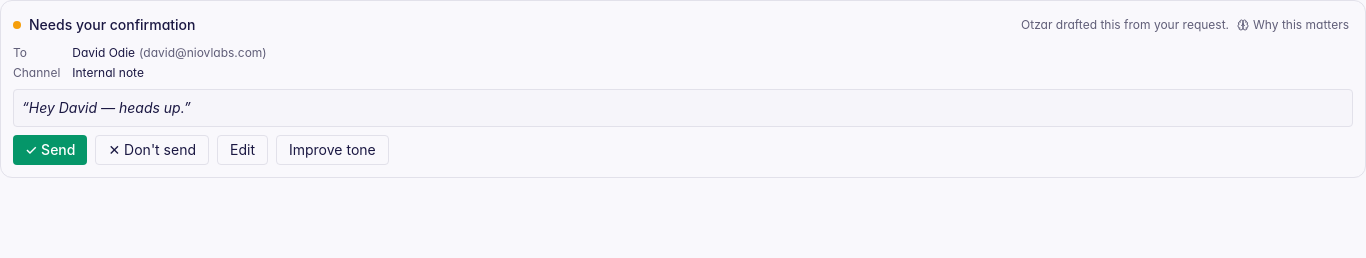
ProposedActionCard — edit flow › Edit reveals a textarea seeded with the draft text
This screenshot has width=1366, height=258.
Click the button with test id "ctx-edit-button".
click(242, 150)  # box [217,135,268,165]
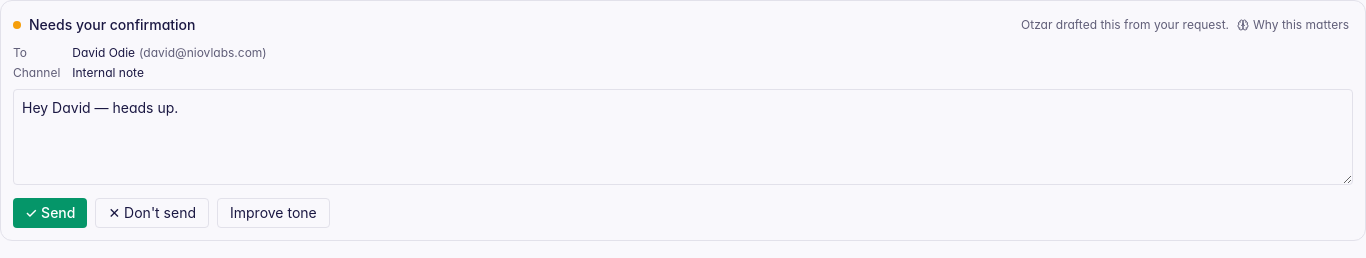
Check: the text box with test id "ctx-draft-edit" holds "Hey David — heads up.", box [13,89,1353,185]
